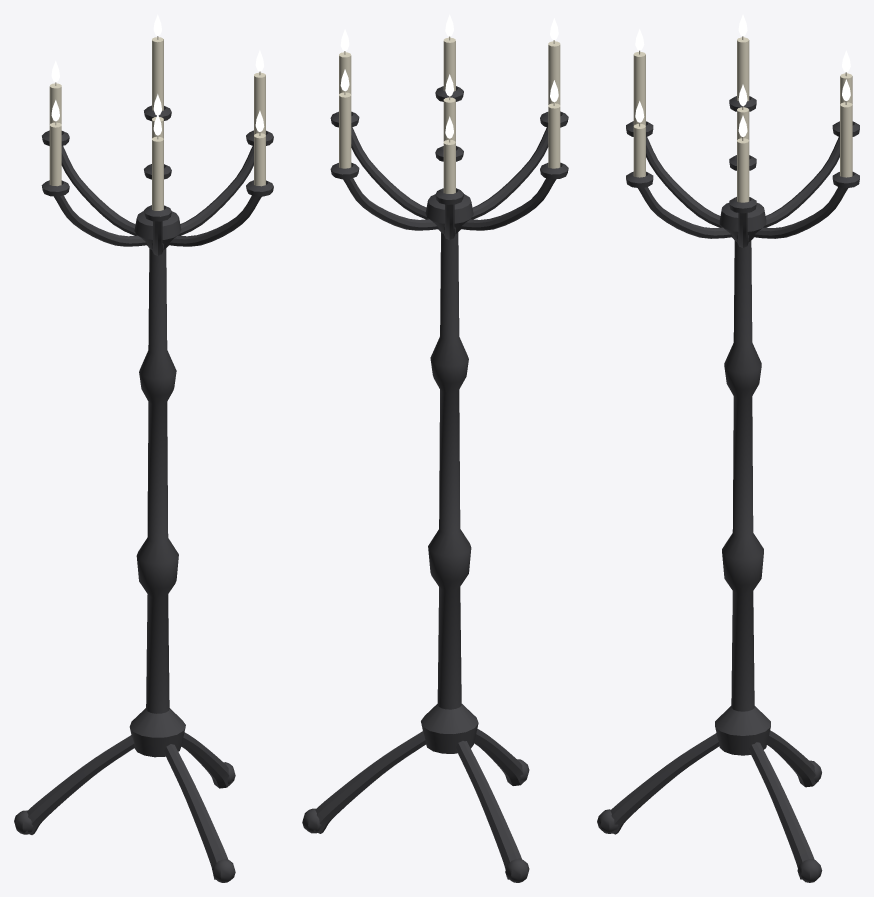
The model's file is chi_candelabro.fbx.
3 renders of one model, left to right at view 1: azimuth 30°, elevation 25°; view 2: azimuth 150°, elevation 25°; view 3: azimuth 270°, elevation 25°, orthographic. The views are drawn at different scales.
Parts seen in each view (by area): view 1: chi_candelabro_ferro, chi_candelabro_cera, chi_candelabro_fiamma; view 2: chi_candelabro_ferro, chi_candelabro_cera, chi_candelabro_fiamma; view 3: chi_candelabro_ferro, chi_candelabro_cera, chi_candelabro_fiamma.
Boxes of the visible parts, <box> form: chi_candelabro_ferro: <box>14,105,273,882</box>; chi_candelabro_cera: <box>49,36,265,210</box>; chi_candelabro_fiamma: <box>51,14,264,135</box>; chi_candelabro_ferro: <box>302,86,568,882</box>; chi_candelabro_cera: <box>339,36,560,193</box>; chi_candelabro_fiamma: <box>340,14,558,138</box>; chi_candelabro_ferro: <box>597,96,859,882</box>; chi_candelabro_cera: <box>633,36,852,202</box>; chi_candelabro_fiamma: <box>635,14,850,136</box>.
Size of the model in its own units: 0.56 by 1.8 by 0.551.
